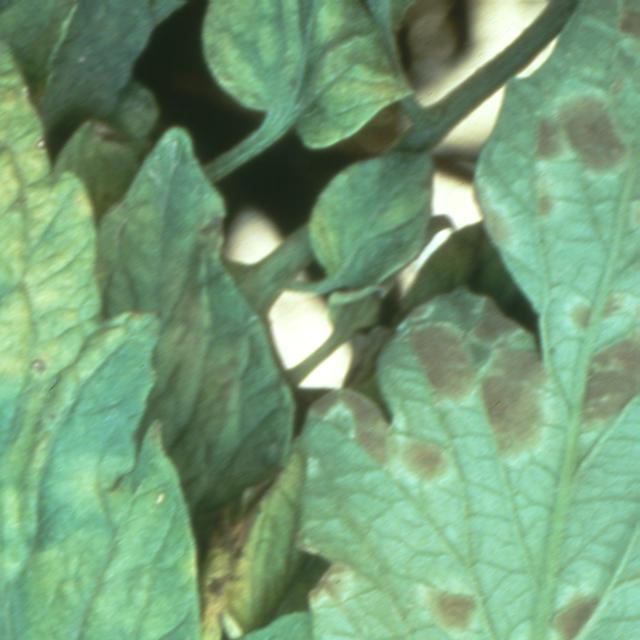Tomato mold leaf: (299, 0, 640, 640), (0, 2, 190, 640), (194, 0, 437, 149)
